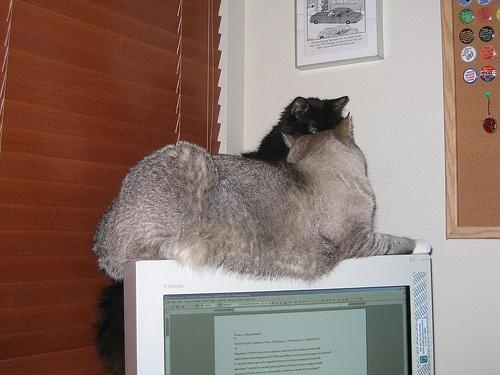cat: (93, 113, 433, 284), (244, 94, 354, 170)
tvmonitor: (122, 253, 437, 374)
